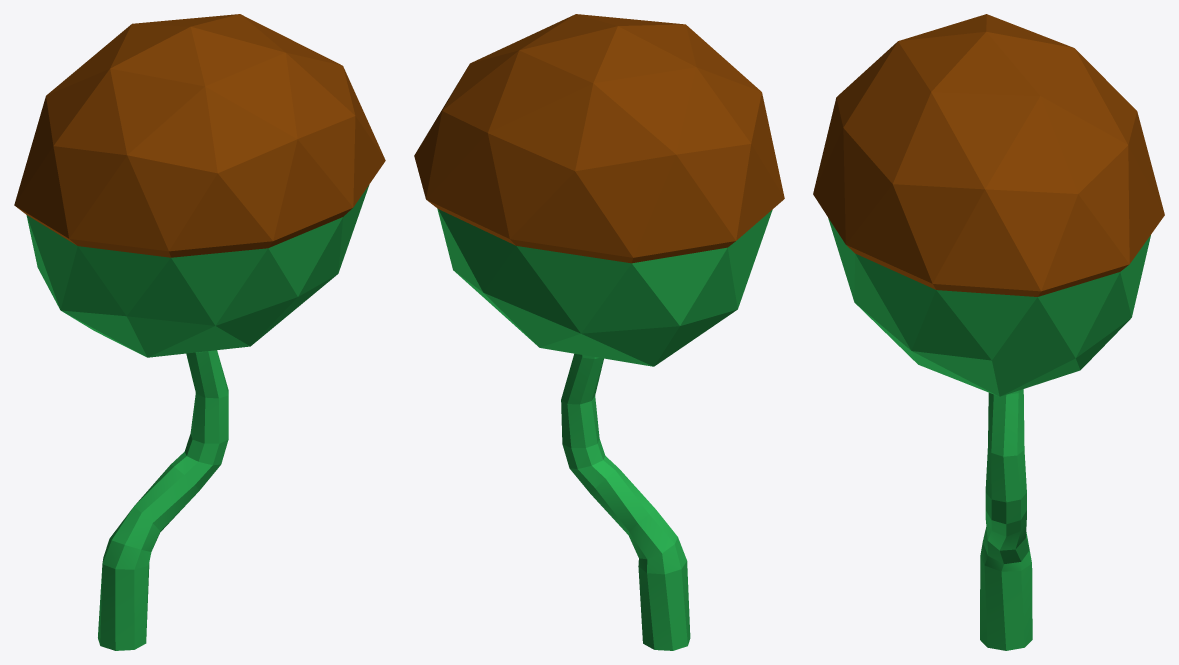
The model's file is Tree.obj.
The picture shows the model from 3 angles, left to right: view 1: azimuth 30°, elevation 25°; view 2: azimuth 150°, elevation 25°; view 3: azimuth 270°, elevation 25°; orthographic projection. The views are drawn at different scales.
Parts seen in each view (by area): view 1: Cylinder.019; view 2: Cylinder.019; view 3: Cylinder.019.
Part boxes in pixels (box(x1,y1,x2,y2)): Cylinder.019: box(14, 14, 385, 650); Cylinder.019: box(414, 14, 784, 650); Cylinder.019: box(813, 14, 1164, 650).
Size of the model in its own units: 1.58 by 2.76 by 1.38.
